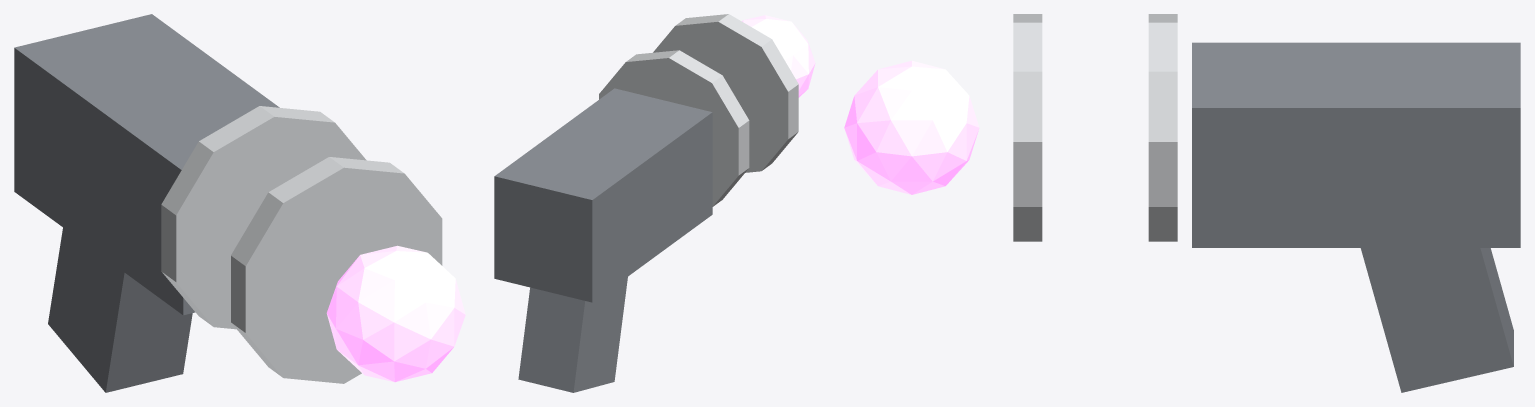
The model's file is singularity.glb.
3 views of the same model, side by side, from view 1: azimuth 30°, elevation 25°; view 2: azimuth 150°, elevation 25°; view 3: azimuth 270°, elevation 25° (orthographic). The views are drawn at different scales.
Parts seen in each view (by area): view 1: gun; view 2: gun; view 3: gun.
Part boxes in pixels (box(x1,y1,x2,y2)): gun: box(14, 14, 465, 392); gun: box(494, 14, 815, 392); gun: box(844, 14, 1520, 392).
Size of the model in its own units: 0.2283 by 0.4017 by 0.7.
